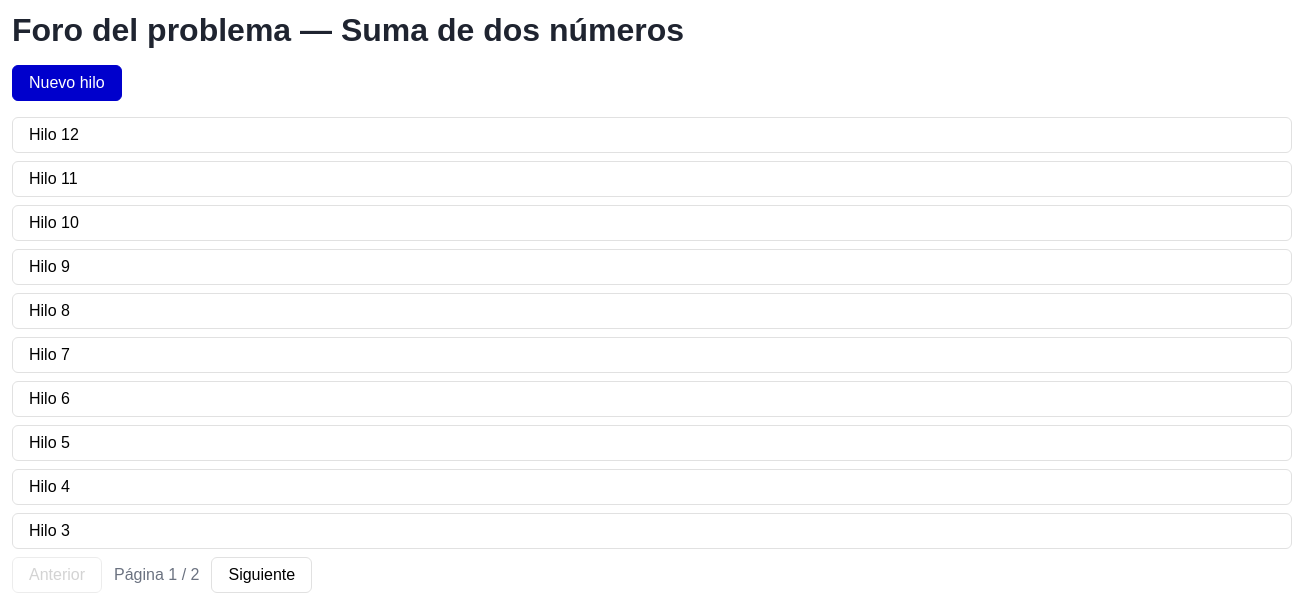
Test: Forum page — thread list › paginates the thread list with Next/Prev buttons
expect the button with test id "thread-12" is shown: met, box [12,117,1292,153]
expect the button with test id "thread-3" is shown: met, box [12,513,1292,549]
Click the button with test id "thread-next".
click(262, 575)  # box [212,557,312,593]
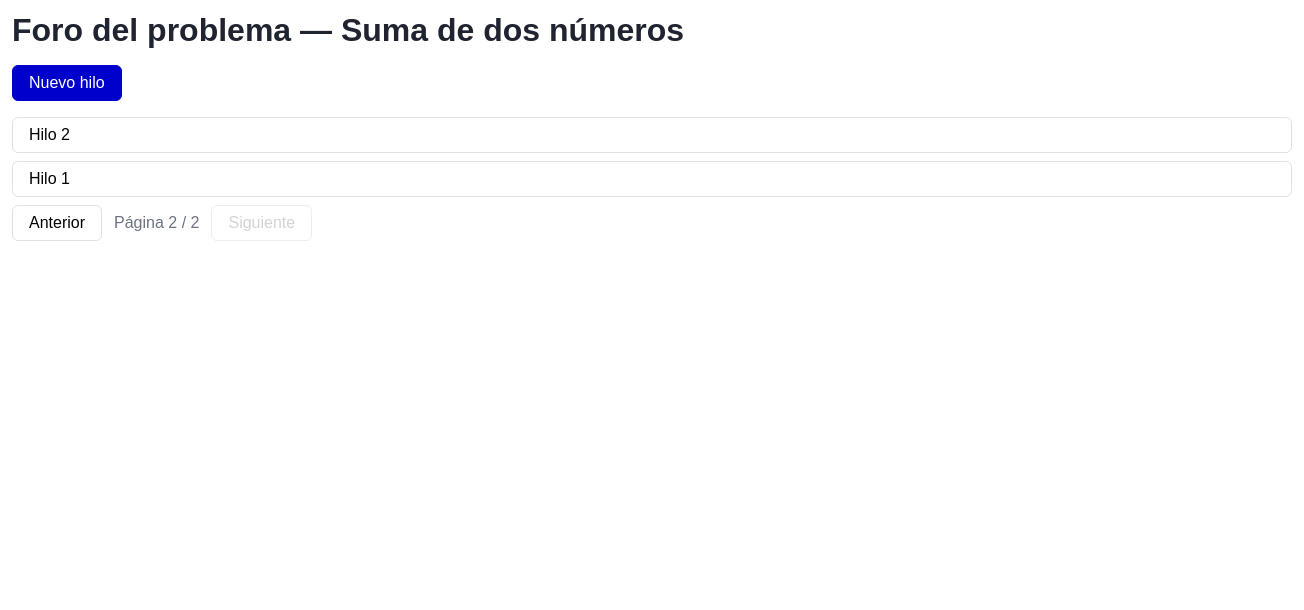
expect the button with test id "thread-1" is shown: met, box [12,161,1292,197]
expect the button with test id "thread-2" is shown: met, box [12,117,1292,153]
expect the button with test id "thread-3" is gone: met
Click the button with test id "thread-prev".
click(57, 223)  # box [12,205,102,241]
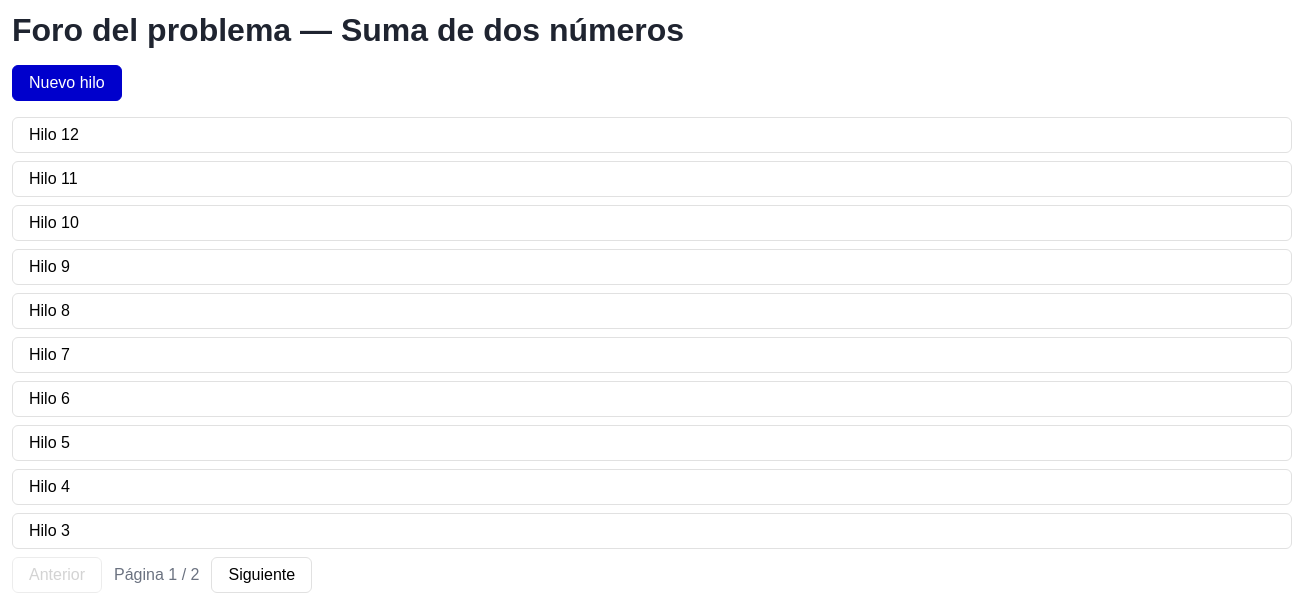
expect the button with test id "thread-12" is shown: met, box [12,117,1292,153]
